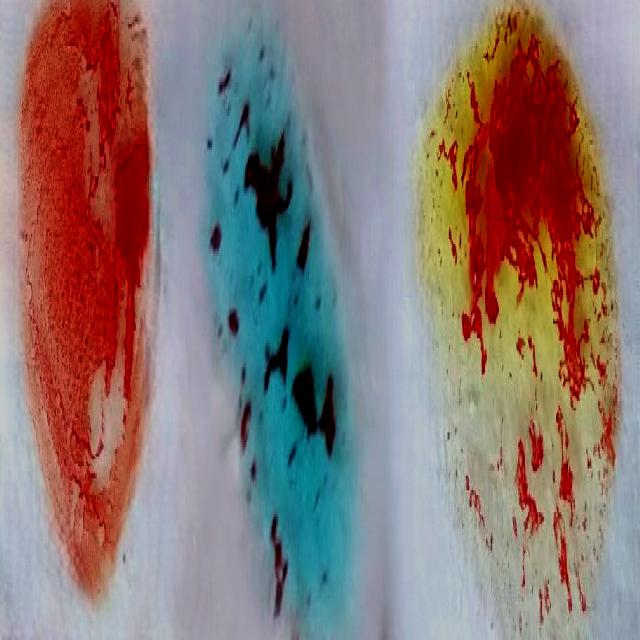A: (209, 30, 339, 630)
B: (436, 4, 617, 635)
D: (28, 1, 160, 584)
